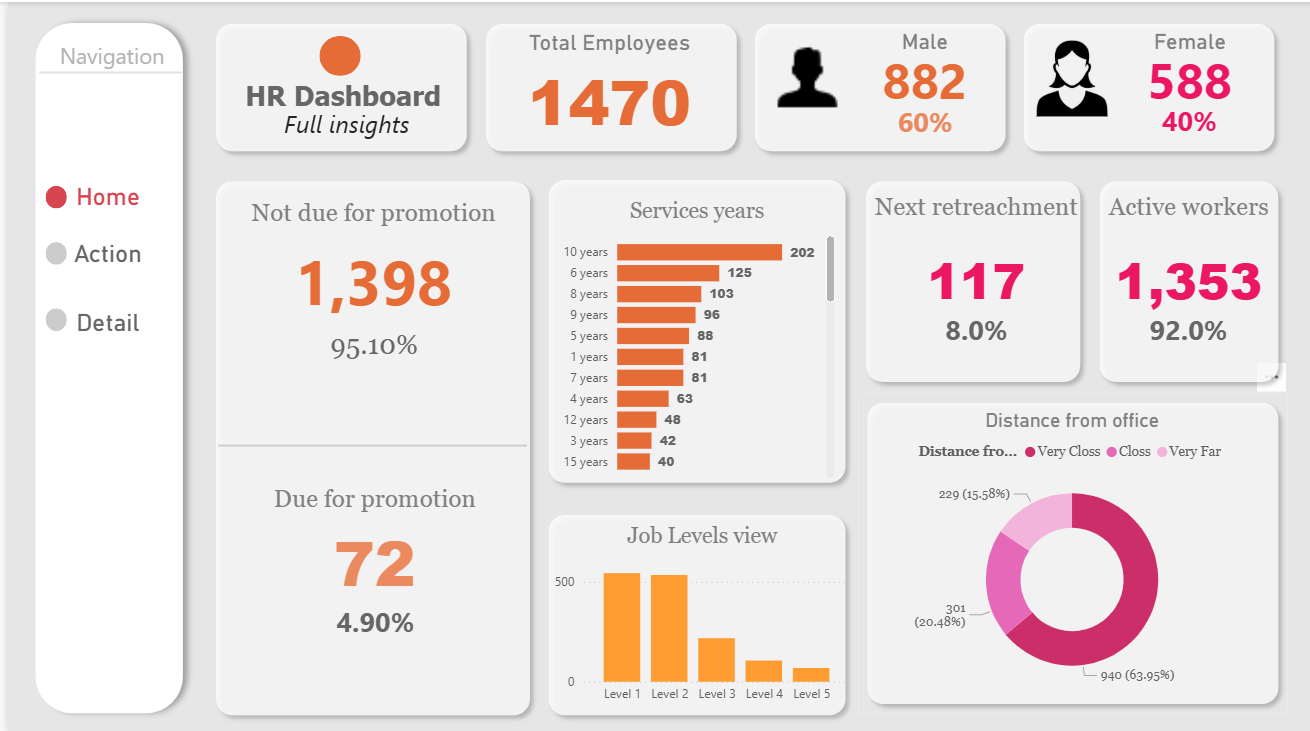

The dashboard page shown, as its layout file describes it:
{"tool":"powerbi","page":{"name":"Home","canvas":[1280,720],"ordinal":0},"visuals":[{"type":"shape","box":[16.5,9.6,166.5,699.2],"z":0},{"type":"shape","box":[195.4,12.4,264.3,143.1],"z":1000},{"type":"shape","box":[459.7,12.4,264.3,143.1],"z":2000},{"type":"shape","box":[724,12.4,264.3,143.1],"z":3000},{"type":"shape","box":[988.2,12.4,264.3,143.1],"z":4000},{"type":"shape","box":[195.4,166.5,326.2,542.3],"z":5000},{"type":"shape","box":[521.6,166.2,309.7,315.2],"z":6000},{"type":"shape","box":[521.6,494.1,309.7,214.7],"z":7000},{"type":"shape","box":[834.8,384.2,421.6,314.1],"z":8000},{"type":"shape","box":[833.6,166.7,228.3,215],"z":9000},{"type":"shape","box":[1063.1,166.7,193.3,215],"z":10000},{"type":"textbox","box":[209.7,71.2,238.7,51.4],"z":11000},{"type":"textbox","box":[36.9,33,130.5,51.4],"z":12000},{"type":"textbox","box":[209.7,97.6,251.9,55.4],"z":13000},{"type":"shape","box":[305.9,33,40.9,39.6],"z":14000},{"type":"card","title":"Total Employees","fields":{"Values":["All Measures.Total Emp"]},"box":[468,27.5,246.4,112.9],"z":15000},{"type":"card","title":"Male","fields":{"Values":["All Measures.Male"]},"box":[814.8,26.2,170.7,75.7],"z":16000},{"type":"card","fields":{"Values":["All Measures.Male %"]},"box":[834.1,90.8,132.1,55.1],"z":17000},{"type":"card","title":"Female","fields":{"Values":["All Measures.Female"]},"box":[1068.7,26.2,183.1,75.7],"z":18000},{"type":"card","fields":{"Values":["All Measures.Female %"]},"box":[1083.9,90.8,152.8,53.7],"z":19000},{"type":"image","box":[736.3,26.2,95,90.8],"z":20000},{"type":"actionButton","title":"Home","box":[27.8,176.4,140.1,30.2],"z":21000},{"type":"image","box":[1004.7,33,79.8,84],"z":22000},{"type":"actionButton","title":"Action","box":[27.7,233.4,139.8,56.7],"z":23000},{"type":"card","title":"Active workers","fields":{"Values":["All Measures.On service"]},"box":[1058.3,186,203,142.6],"z":24000},{"type":"actionButton","title":"Detail","box":[27.7,300.7,139.8,58],"z":25000},{"type":"card","fields":{"Values":["All Measures.% Active workers"]},"box":[1082.4,296,153.4,53.2],"z":26000},{"type":"card","title":"Next retreachment","fields":{"Values":["All Measures.Due for retirment"]},"box":[843.2,186,215,142.6],"z":27000},{"type":"card","fields":{"Values":["All Measures.%Due for retirment"]},"box":[865,296,171.5,53.2],"z":28000},{"type":"columnChart","title":"Job Levels view","fields":{"Category":["HR Analytics Data.Job Level"],"Y":["All Measures.Total Emp"]},"box":[531.3,512,300,185.8],"z":29000},{"type":"barChart","title":"Services years","fields":{"Category":["HR Analytics Data.Total working Years"],"Y":["All Measures.Total Emp"]},"box":[536.4,192.1,280.3,280.3],"z":30000},{"type":"donutChart","title":"Distance from office","fields":{"Category":["HR Analytics Data.Distance from office"],"Y":["All Measures.Total Emp"]},"box":[840.8,399.9,408.3,282.7],"z":31000},{"type":"card","title":"Not due for promotion","fields":{"Values":["All Measures.Not Due"]},"box":[207.8,192.1,303.2,130.5],"z":32000},{"type":"card","title":"Due for promotion","fields":{"Values":["All Measures.Due for promotion"]},"box":[209,473.8,303.2,119.6],"z":33000},{"type":"shape","box":[206.6,427.7,303.2,14.5],"z":34000},{"type":"card","fields":{"Values":["All Measures.% Not due for promotion"]},"box":[283.5,309.7,152.8,53.7],"z":35000},{"type":"card","fields":{"Values":["All Measures.% Due for promotion"]},"box":[285.1,582.5,152.2,53.2],"z":36000},{"type":"shape","box":[36.9,180.7,21.1,22.4],"z":37000},{"type":"shape","box":[36.9,236,21.1,22.4],"z":38000},{"type":"shape","box":[36.9,300.7,21.1,22.4],"z":39000},{"type":"shape","box":[30.2,61.6,140.1,15.7],"z":41000}]}

Visuals, with their boxes in screenshot pixels (x1, y1, x2, y2), scaled from the page's 1280x720 canvas onto the 1310x731 screenshot:
shape: Rect(17, 10, 187, 720)
shape: Rect(200, 13, 470, 158)
shape: Rect(470, 13, 741, 158)
shape: Rect(741, 13, 1011, 158)
shape: Rect(1011, 13, 1282, 158)
shape: Rect(200, 169, 534, 720)
shape: Rect(534, 169, 851, 489)
shape: Rect(534, 502, 851, 720)
shape: Rect(854, 390, 1286, 709)
shape: Rect(853, 169, 1087, 388)
shape: Rect(1088, 169, 1286, 388)
textbox: Rect(215, 72, 459, 124)
textbox: Rect(38, 34, 171, 86)
textbox: Rect(215, 99, 472, 155)
shape: Rect(313, 34, 355, 74)
"Total Employees" card: Rect(479, 28, 731, 143)
"Male" card: Rect(834, 27, 1009, 103)
card - All Measures.Male %: Rect(854, 92, 989, 148)
"Female" card: Rect(1094, 27, 1281, 103)
card - All Measures.Female %: Rect(1109, 92, 1266, 147)
image: Rect(754, 27, 851, 119)
"Home" actionButton: Rect(28, 179, 172, 210)
image: Rect(1028, 34, 1110, 119)
"Action" actionButton: Rect(28, 237, 171, 295)
"Active workers" card: Rect(1083, 189, 1291, 334)
"Detail" actionButton: Rect(28, 305, 171, 364)
card - All Measures.% Active workers: Rect(1108, 301, 1265, 355)
"Next retreachment" card: Rect(863, 189, 1083, 334)
card - All Measures.%Due for retirment: Rect(885, 301, 1061, 355)
"Job Levels view" columnChart: Rect(544, 520, 851, 708)
"Services years" barChart: Rect(549, 195, 836, 480)
"Distance from office" donutChart: Rect(861, 406, 1278, 693)
"Not due for promotion" card: Rect(213, 195, 523, 328)
"Due for promotion" card: Rect(214, 481, 524, 602)
shape: Rect(211, 434, 522, 449)
card - All Measures.% Not due for promotion: Rect(290, 314, 447, 369)
card - All Measures.% Due for promotion: Rect(292, 591, 448, 645)
shape: Rect(38, 183, 59, 206)
shape: Rect(38, 240, 59, 262)
shape: Rect(38, 305, 59, 328)
shape: Rect(31, 63, 174, 78)
